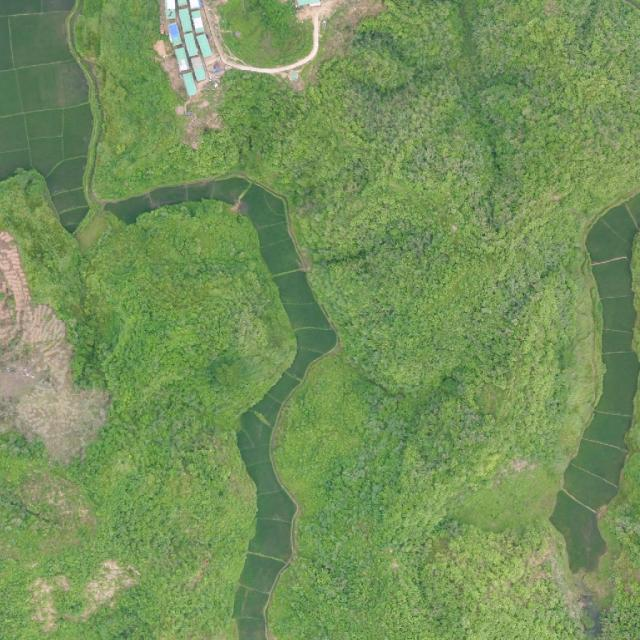agricultural_land: (107, 151, 416, 640)
building: (182, 31, 200, 58), (181, 71, 199, 97), (165, 21, 183, 47), (195, 32, 213, 58), (190, 56, 207, 82), (178, 7, 193, 33), (190, 9, 205, 34), (176, 47, 190, 72), (166, 0, 175, 18)
dryland: (0, 232, 107, 463)
greenland: (0, 171, 296, 640), (599, 376, 640, 639), (284, 0, 388, 90)
unmetalled_road: (209, 10, 325, 78)
